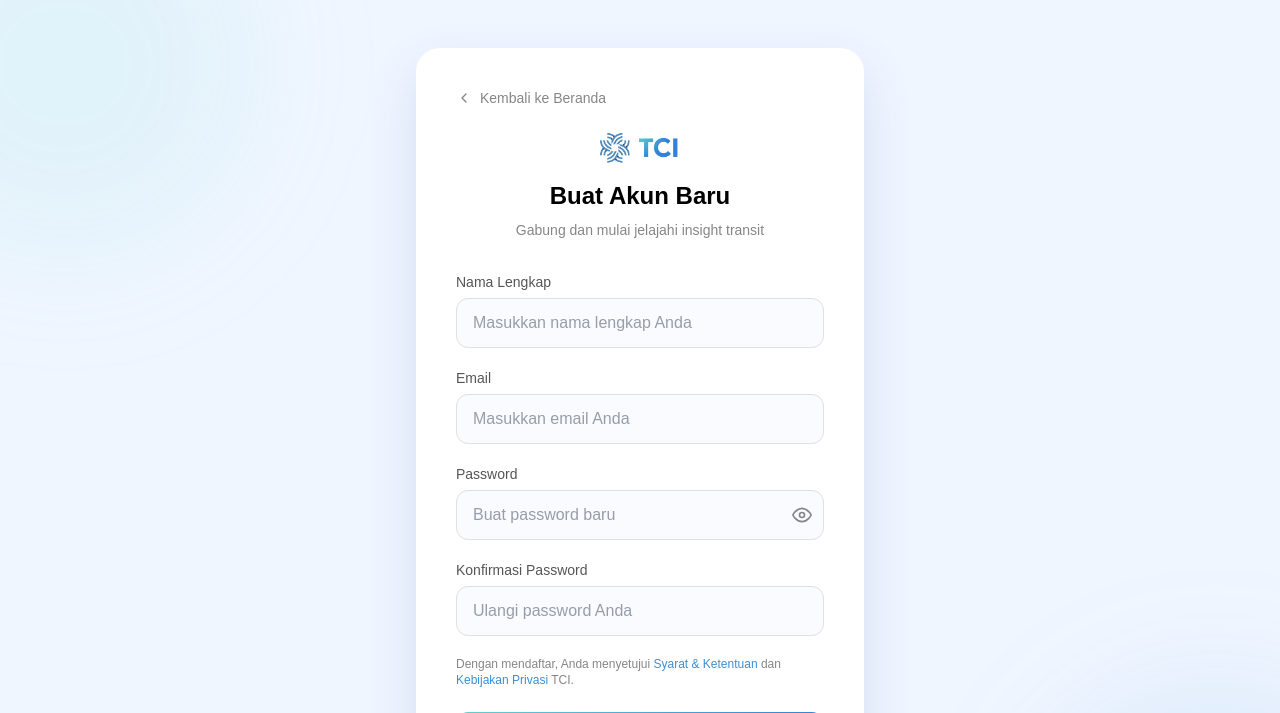
Register Page › shows error on signUp failure
The image size is (1280, 713).
In the field labelled "Nama Lengkap": (640, 323) [456, 298, 824, 348], type "John Doe"
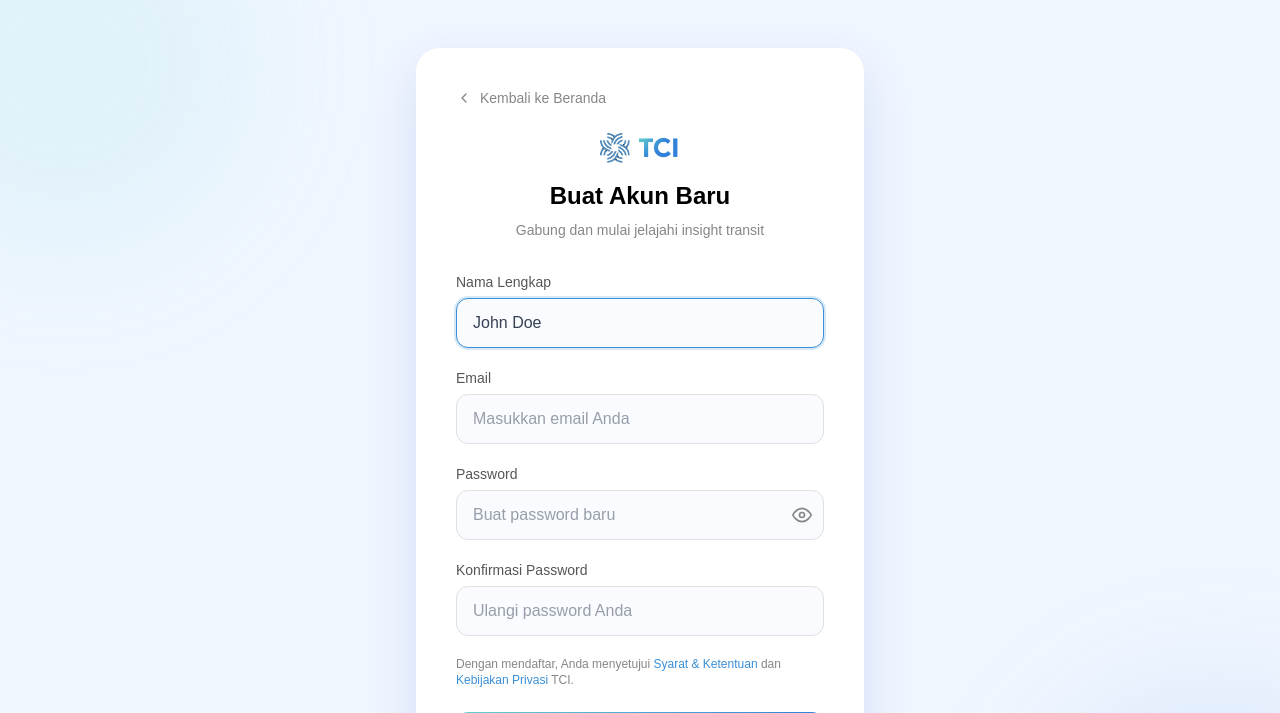
In the field labelled "Email": (640, 419) [456, 394, 824, 444], type "john@example.com"
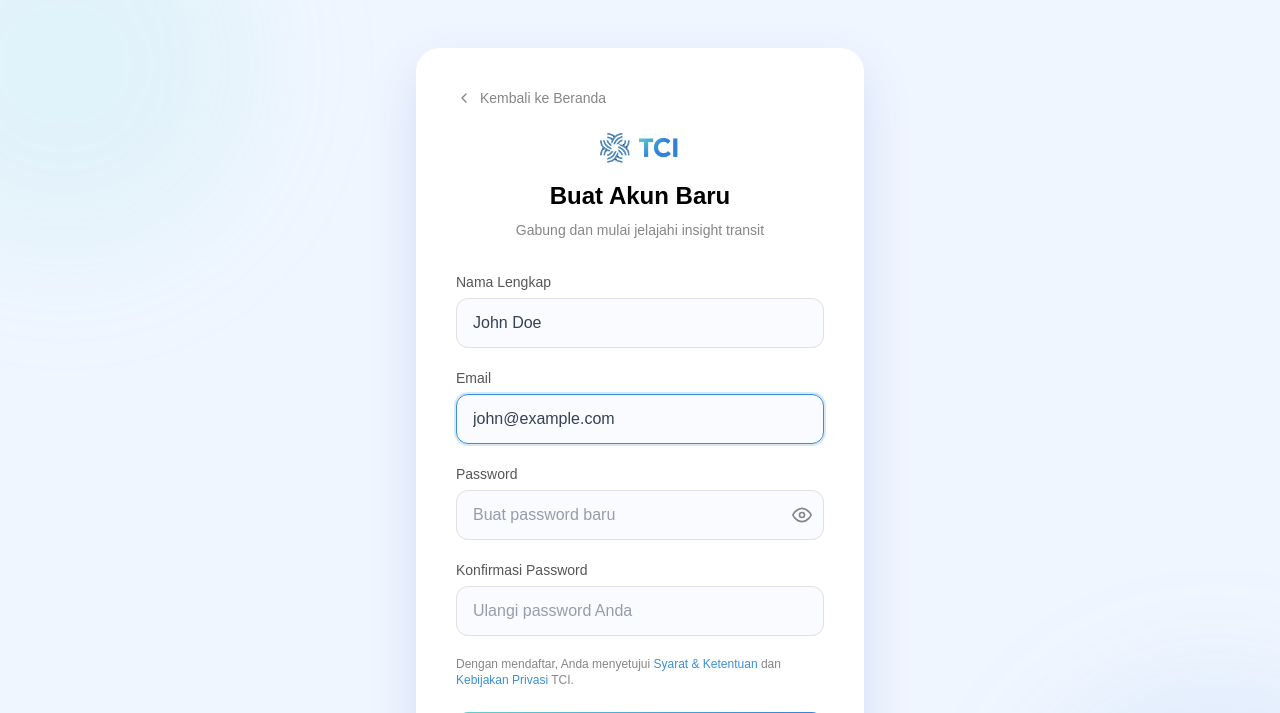
In the password field labelled "Password": (640, 515) [456, 490, 824, 540], type "password123"
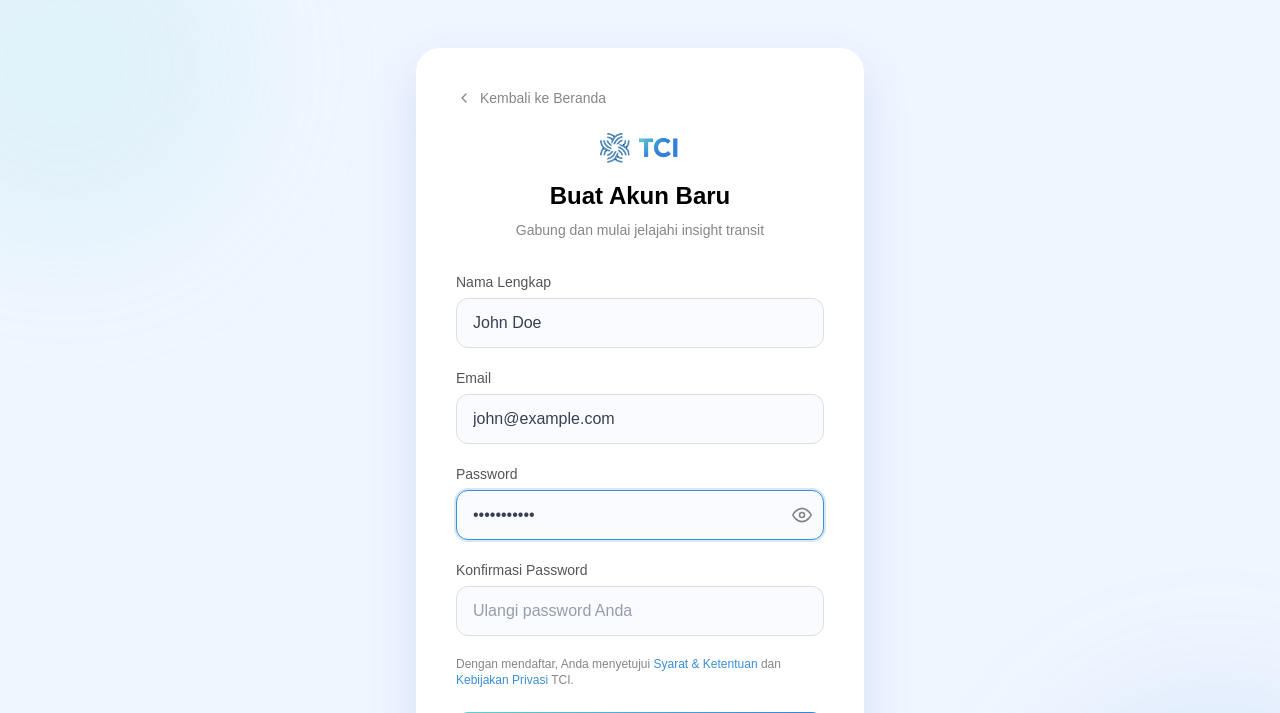
In the password field labelled "Konfirmasi Password": (640, 611) [456, 586, 824, 636], type "password123"
(page scrolled)
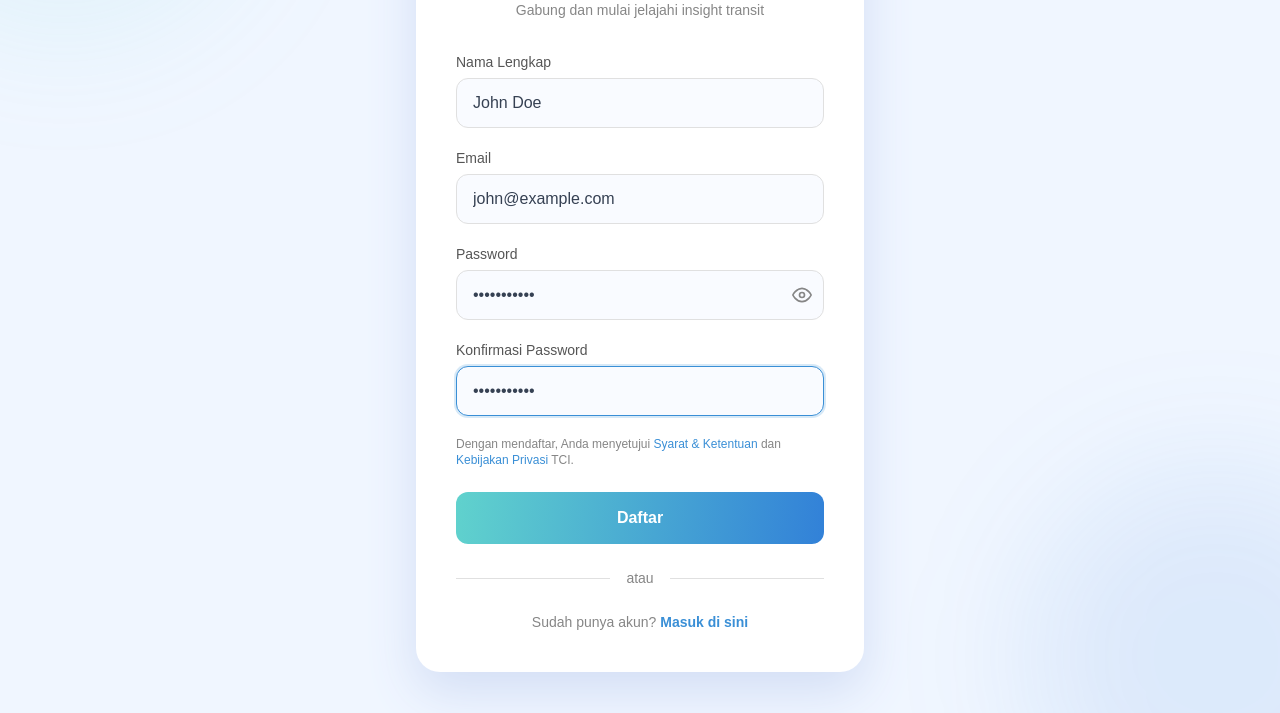
Click the button "Daftar": (640, 518) [456, 492, 824, 544]
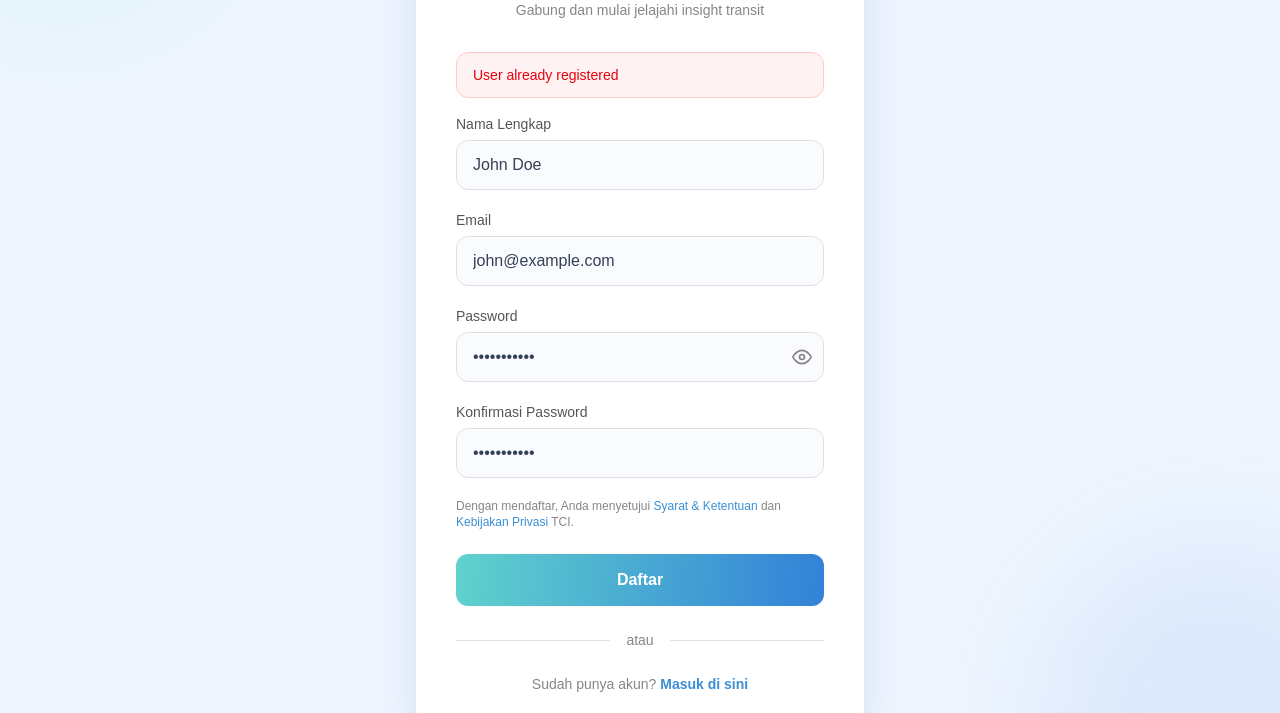
Check: the text "User already registered" is shown, box [456, 52, 824, 98]
